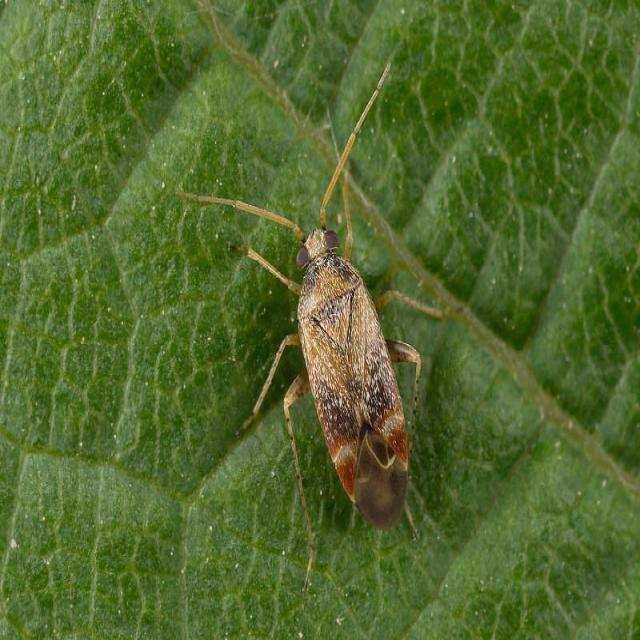Miridae-Adult-: (171, 57, 437, 550)
